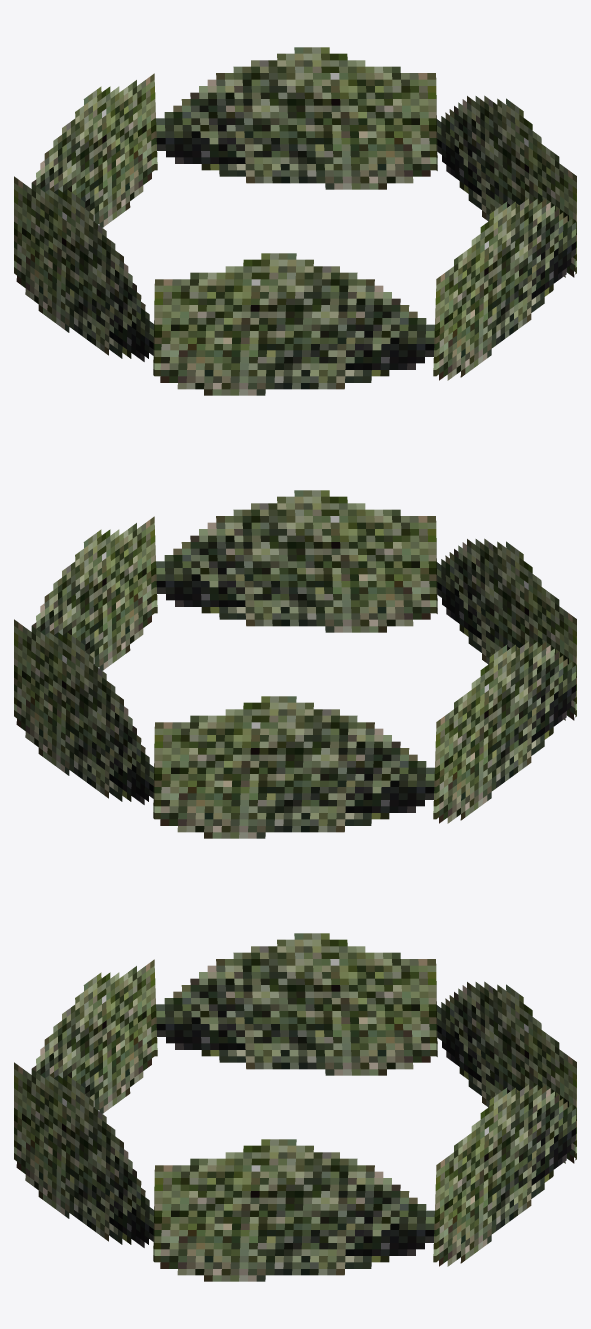
The model's file is brush.glb.
3 views of the same model, one above another, from view 1: azimuth 30°, elevation 25°; view 2: azimuth 150°, elevation 25°; view 3: azimuth 270°, elevation 25° (orthographic).
Visible parts, largest first — view 1: Cylinder; view 2: Cylinder; view 3: Cylinder.
Part boxes in pixels (x1,y1,x2,y2): Cylinder: (14, 47, 576, 395); Cylinder: (14, 490, 576, 838); Cylinder: (14, 933, 576, 1281).
Bounding box in the file's own units: 3.51 × 1.65 × 4.06.
Materials: 1 (1 with a texture image).
